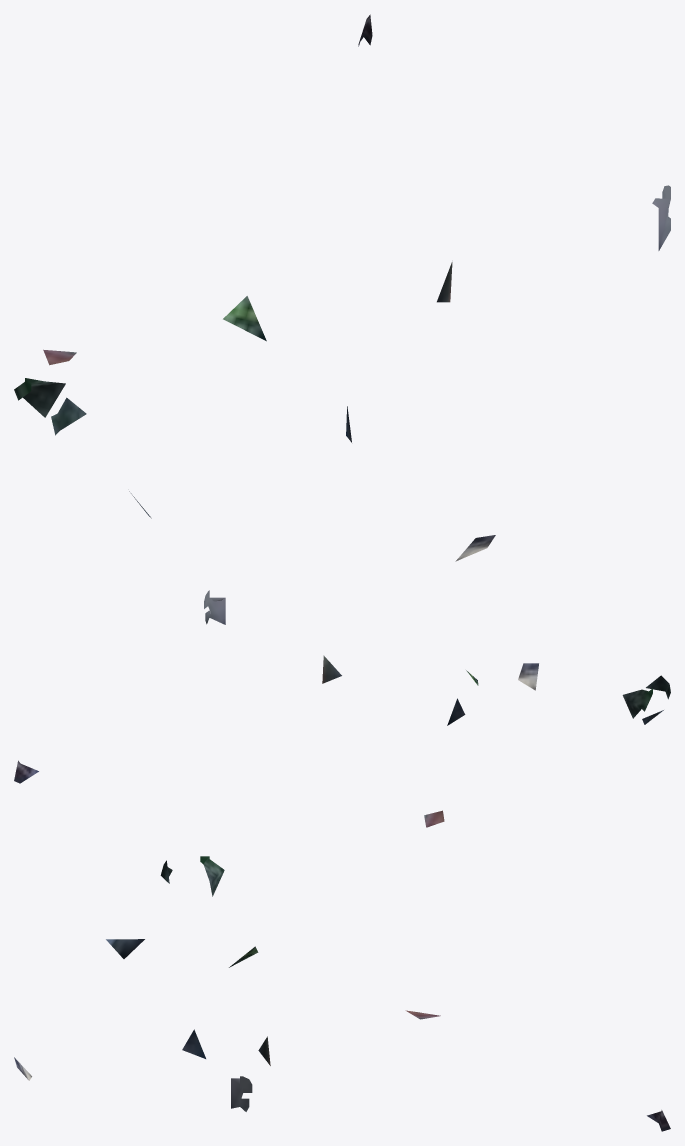
3 renders of one model, top to bottom at view 1: azimuth 30°, elevation 25°; view 2: azimuth 150°, elevation 25°; view 3: azimuth 270°, elevation 25°, orthographic. The views are drawn at different scales.
Visible parts, largest first — view 1: 30436272704361704511_1; view 2: 30436272704361704511_1; view 3: 30436272704361704511_1.
Part boxes in pixels (box(x1,y1,x2,y2)): 30436272704361704511_1: box(14, 14, 670, 561); 30436272704361704511_1: box(14, 590, 670, 827); 30436272704361704511_1: box(14, 856, 670, 1131).
Size of the model in its own units: 27.31 by 6.94 by 33.17.
Materials: 1 (1 with a texture image).
